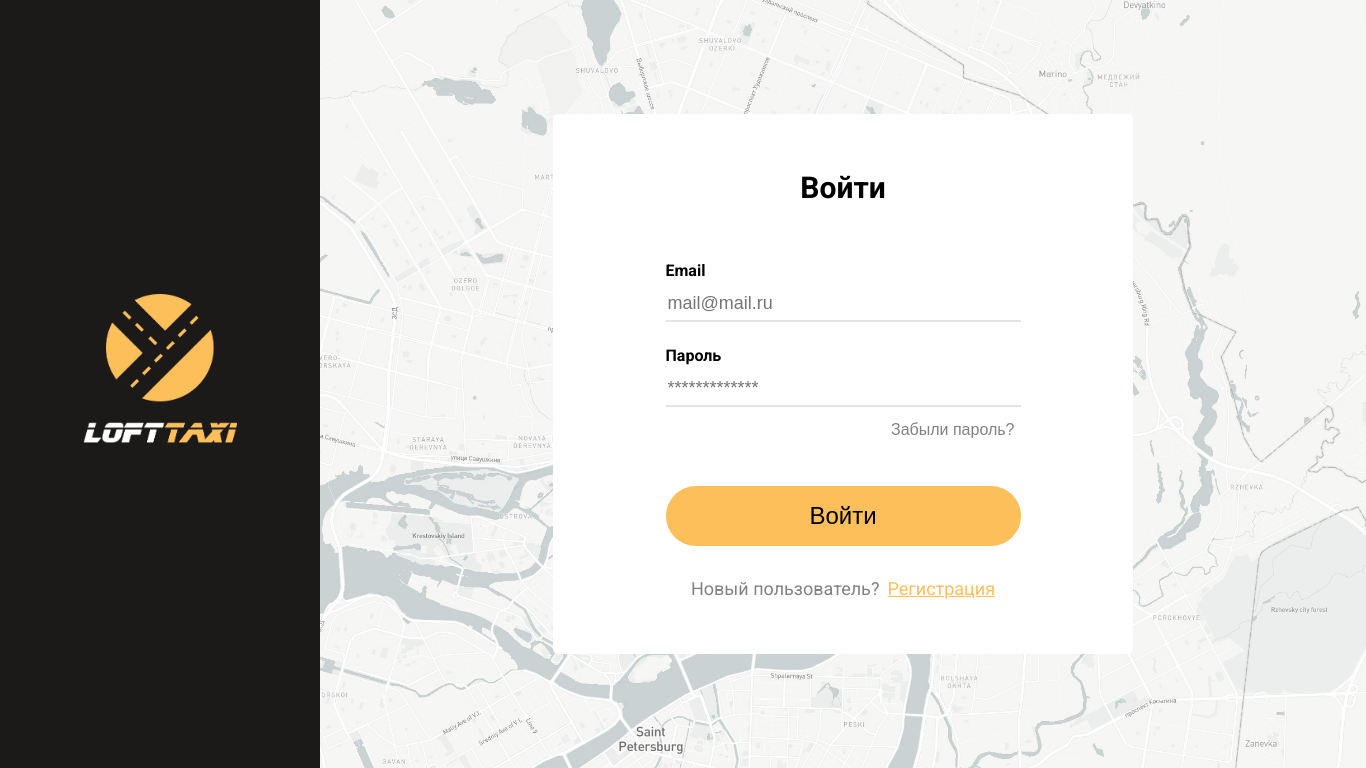
it: PublicPage › renders login form on login link click
Click the link with test id "LoginForm:register-link": (941, 588) [887,578,995,598]
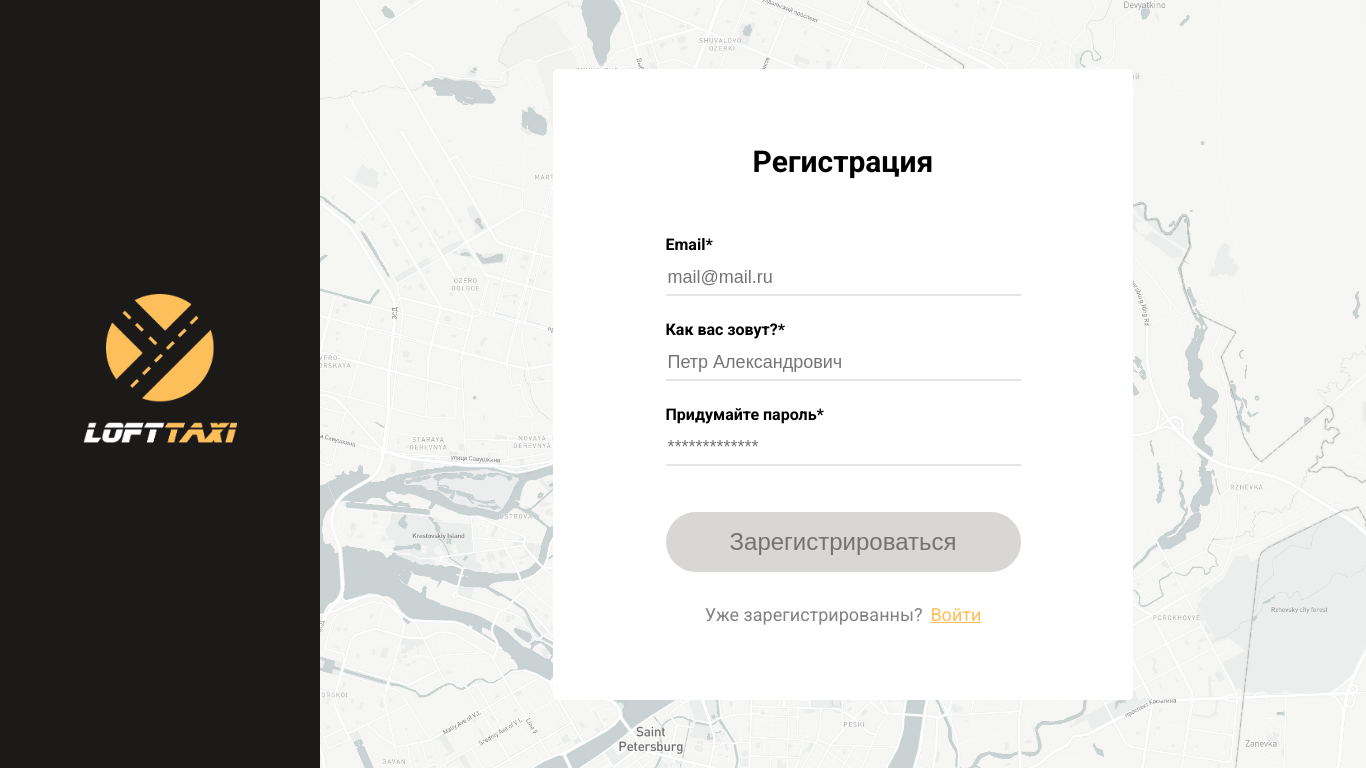
Click the link with test id "RegistrationForm:login-link": (956, 614) [930,604,981,624]
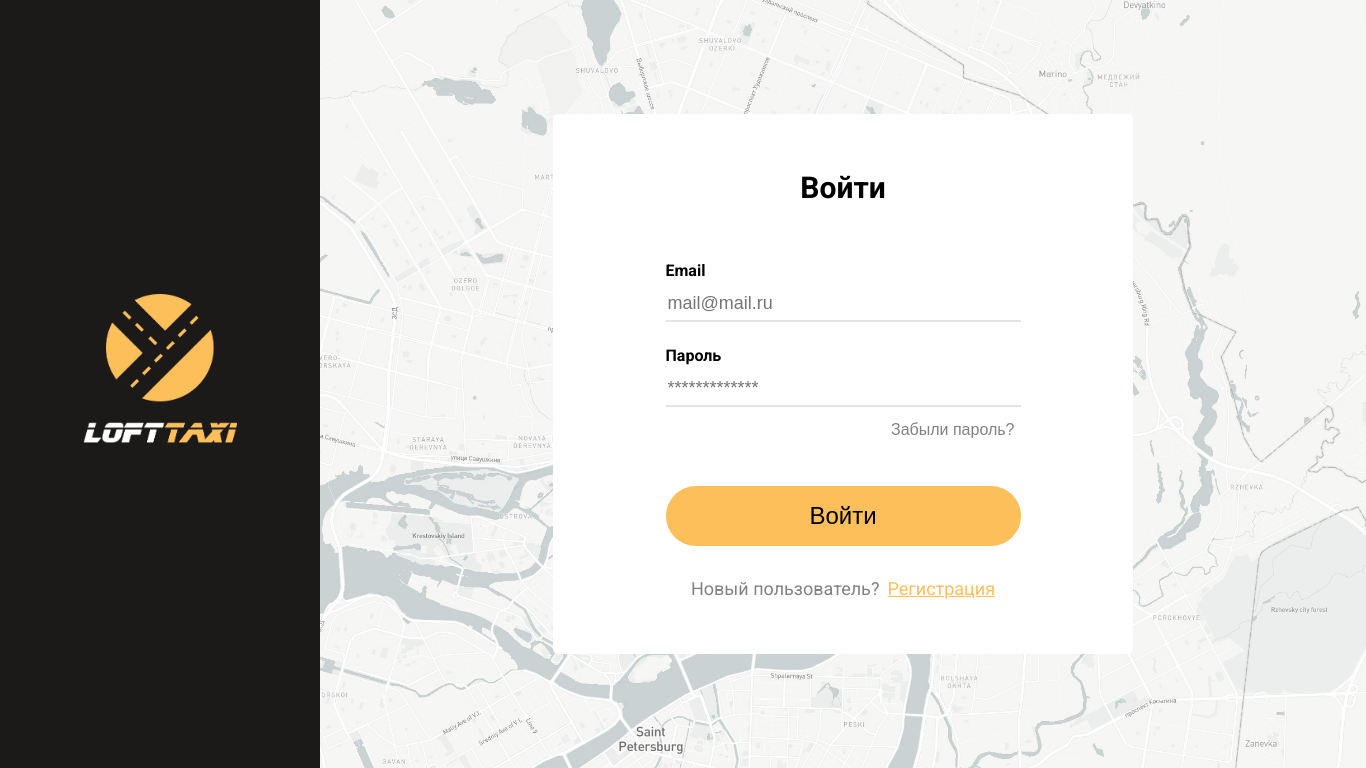
expect the heading "Войти" is shown: met, box [800,170,886,204]
